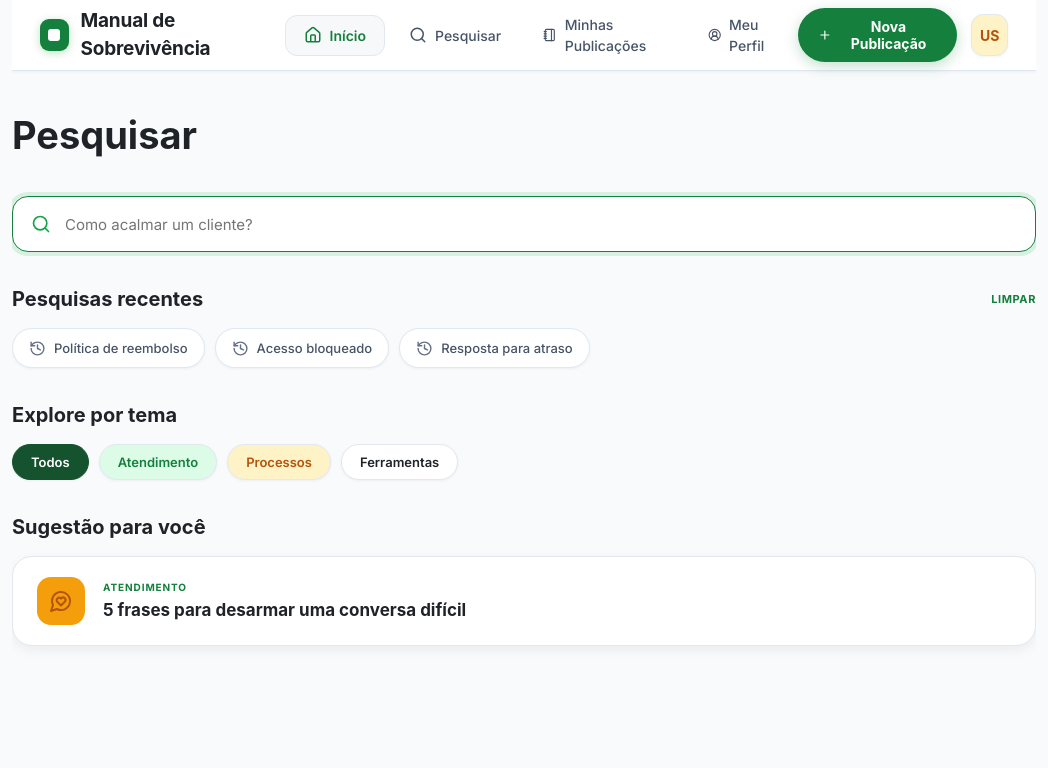
Test case: Search Page › filtra os artigos dinamicamente ao digitar termo de busca
The image size is (1048, 768).
Type "redefinição" into the field with placeholder "Como acalmar um cliente?" at (541, 224), box [65,214,1017,234]
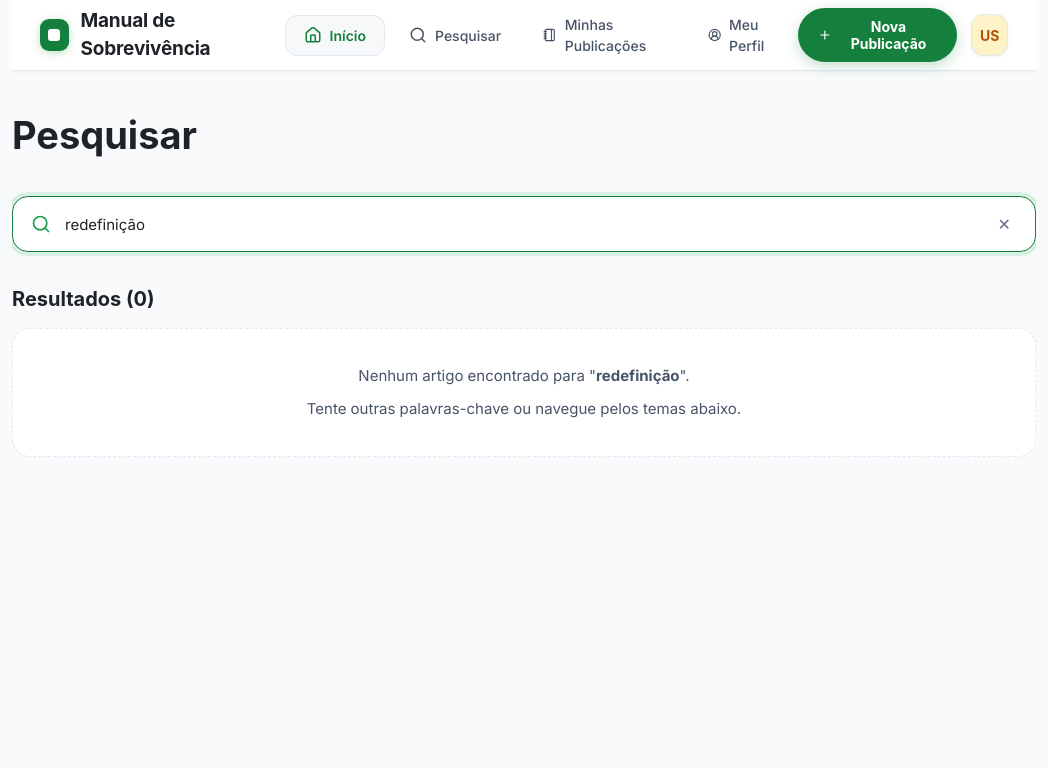
Now the text "Nenhum artigo encontrado para \"redefinição\"." is shown, box [358,366,690,385]
Note: Busca por termo existente
Replace the text in the field with placeholder "Como acalmar um cliente?" with "irritado" at (521, 224), box [65,214,978,234]
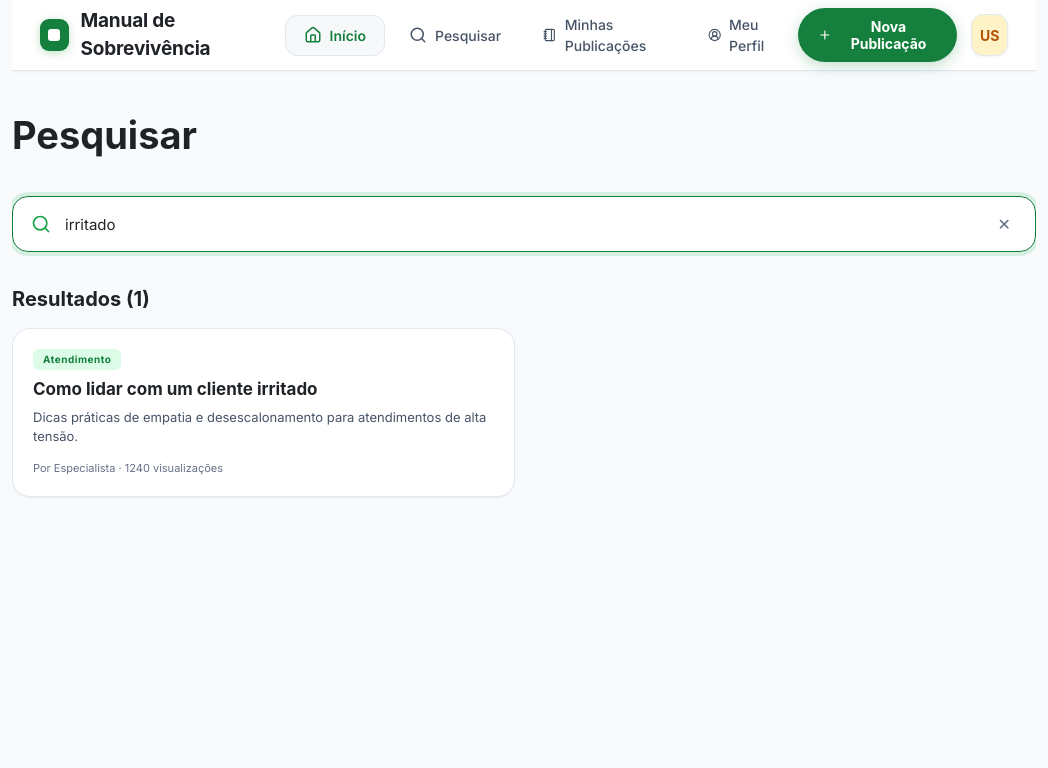
Now the heading "Como lidar com um cliente irritado" is shown, box [33,379,318,399]
Now the heading "Resultados (1)" is shown, box [12,284,150,314]
